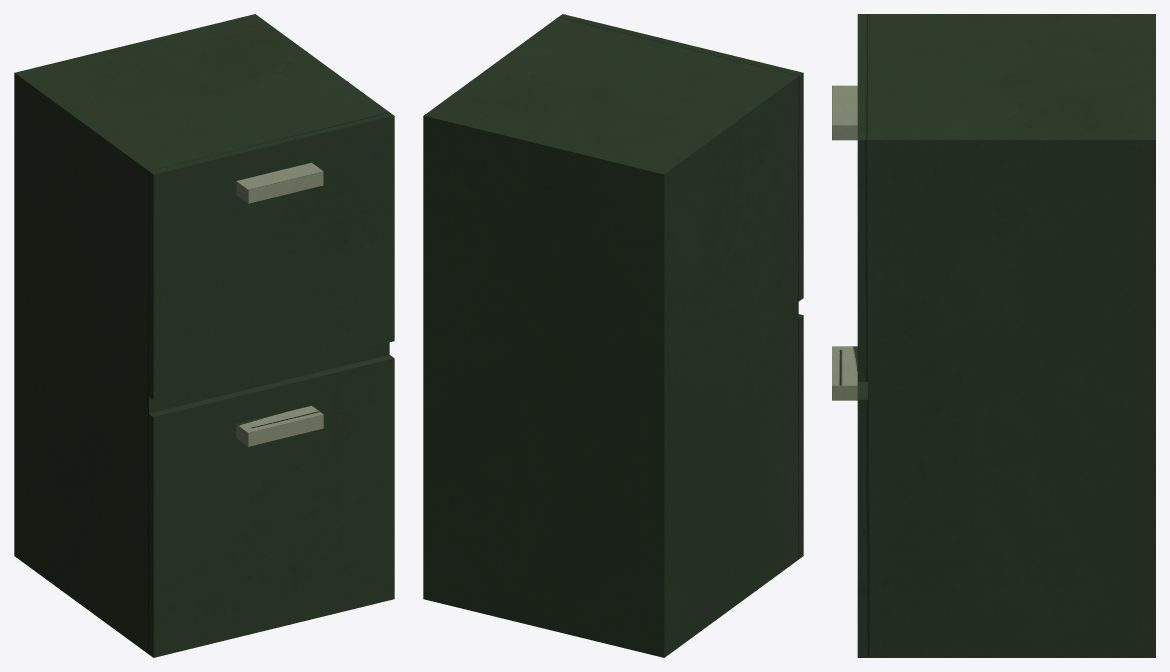
The model's file is filecabinet.obj.
3 renders of one model, left to right at view 1: azimuth 30°, elevation 25°; view 2: azimuth 150°, elevation 25°; view 3: azimuth 270°, elevation 25°, orthographic. The views are drawn at different scales.
Visible parts, largest first — view 1: filecabinet; view 2: filecabinet; view 3: filecabinet.
Boxes of the visible parts, bbox=[...] form: filecabinet: bbox=[14, 14, 394, 657]; filecabinet: bbox=[423, 14, 803, 657]; filecabinet: bbox=[832, 14, 1155, 657].
Size of the model in its own units: 0.7862 by 1.51 by 0.854.
1 material, 1 textured.
